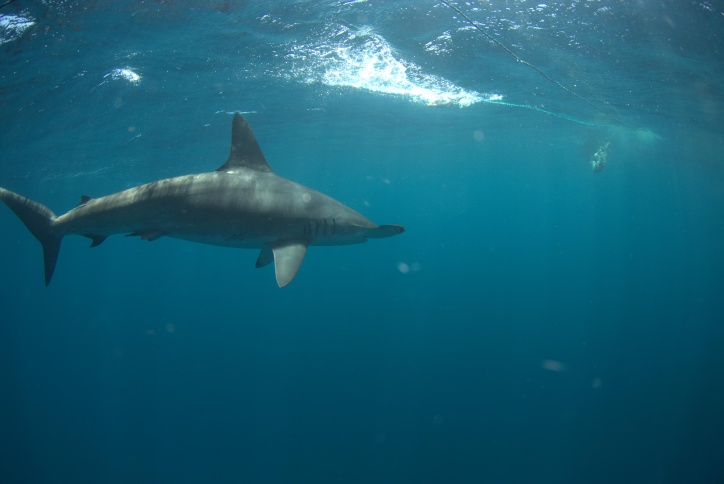Hammer: (1, 103, 418, 312)
